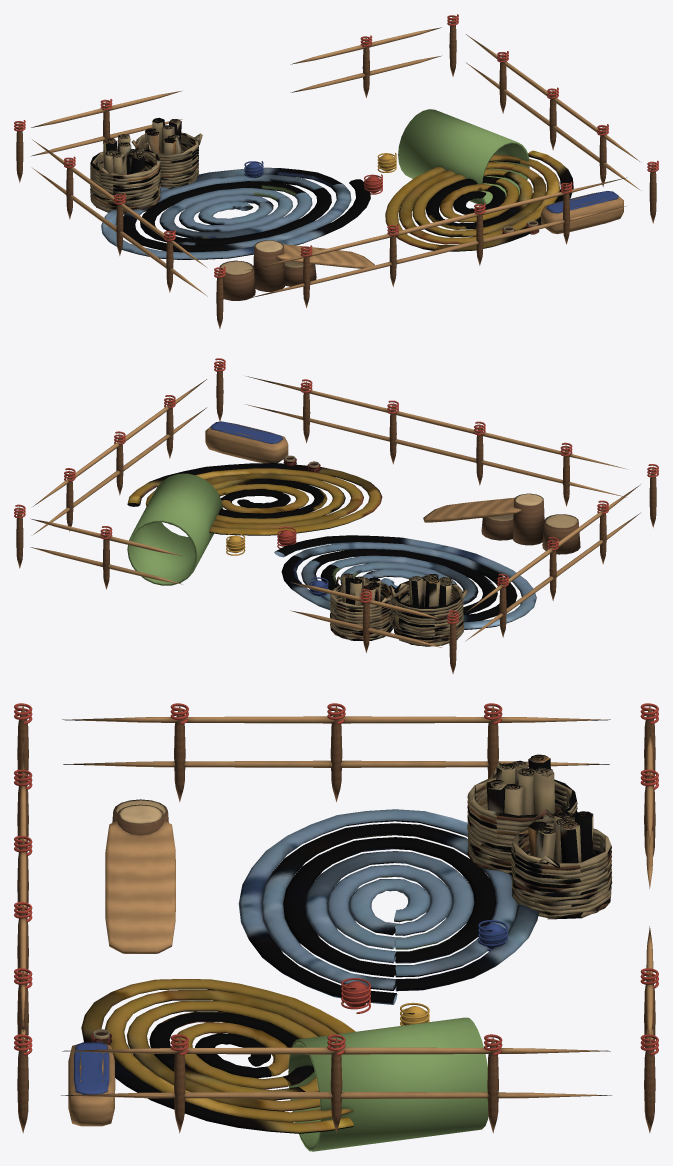
Rendered from yama_pen.glb.
3 views of the same model, one above another, from view 1: azimuth 30°, elevation 25°; view 2: azimuth 150°, elevation 25°; view 3: azimuth 270°, elevation 25° (orthographic). The views are drawn at different scales.
Visible parts, largest first — view 1: yama_pen; view 2: yama_pen; view 3: yama_pen.
Boxes of the visible parts, x1=… form: yama_pen: x1=14, y1=14, x2=658, y2=328; yama_pen: x1=14, y1=358, x2=658, y2=673; yama_pen: x1=14, y1=703, x2=658, y2=1151.
Size of the model in its own units: 4.09 by 0.8763 by 3.29.
1 material, 1 textured.
